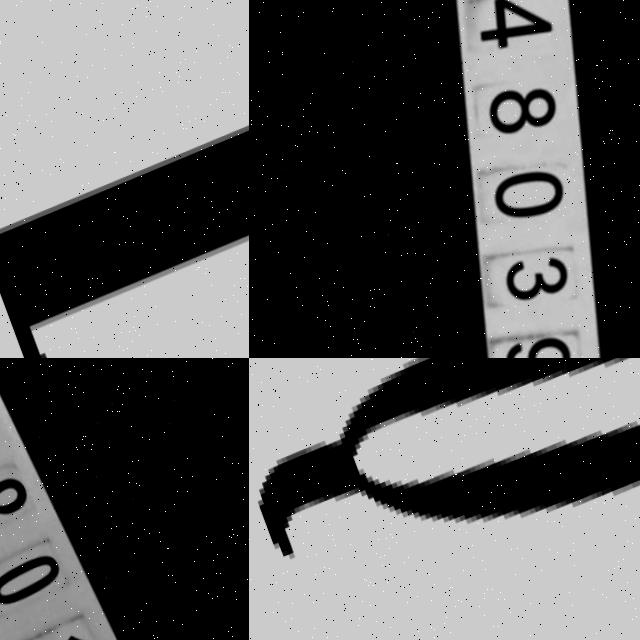0: (471, 139, 590, 249), (0, 537, 73, 620)
1: (4, 610, 107, 640)
3: (484, 229, 591, 327)
4: (452, 0, 579, 80)
8: (466, 56, 581, 162), (0, 457, 43, 551)
9: (482, 308, 597, 358)
L: (0, 1, 249, 358)
Q: (249, 358, 640, 636)
